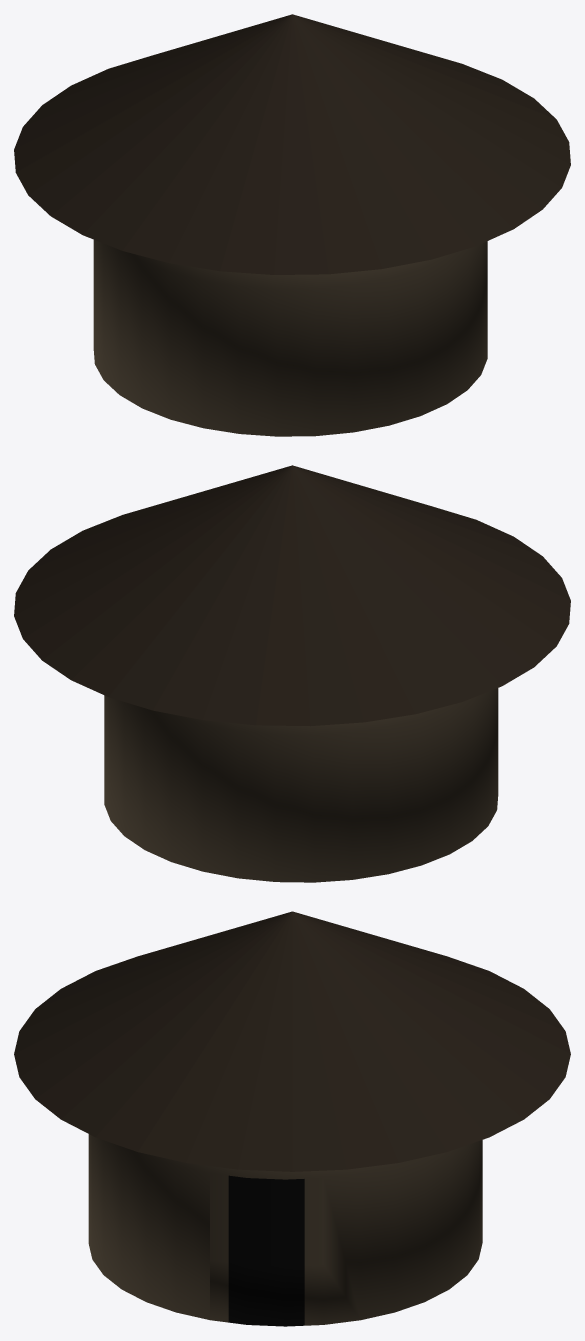
Rendered from hut.fbx.
The picture shows the model from 3 angles, top to bottom: view 1: azimuth 30°, elevation 25°; view 2: azimuth 150°, elevation 25°; view 3: azimuth 270°, elevation 25°; orthographic projection.
Parts seen in each view (by area): view 1: Cone, Cylinder.001; view 2: Cone, Cylinder.001; view 3: Cone, Cylinder.001.
Part boxes in pixels (box(x1,y1,x2,y2)): Cone: box(14, 14, 570, 274); Cylinder.001: box(93, 240, 487, 436); Cone: box(14, 465, 570, 726); Cylinder.001: box(104, 688, 498, 882); Cone: box(14, 911, 570, 1171); Cylinder.001: box(88, 1134, 482, 1326).
Bounding box in the file's own units: 707 × 469 × 707.
